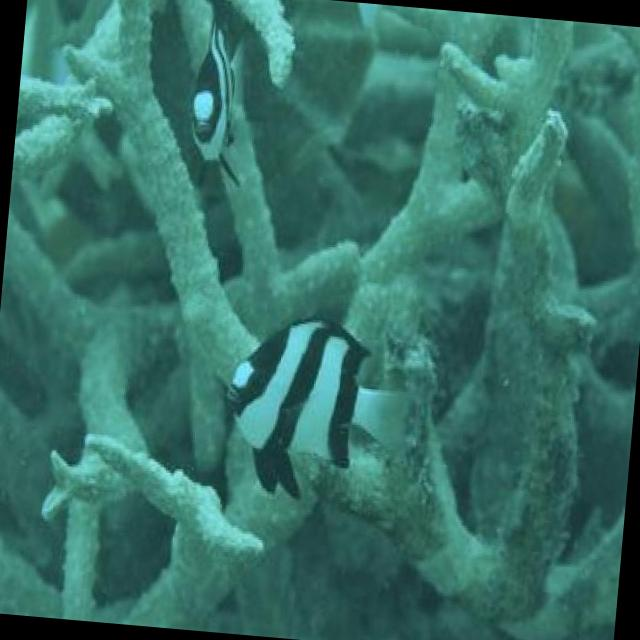Three_striped DasmselFish: (224, 308, 421, 510), (181, 12, 256, 190)
